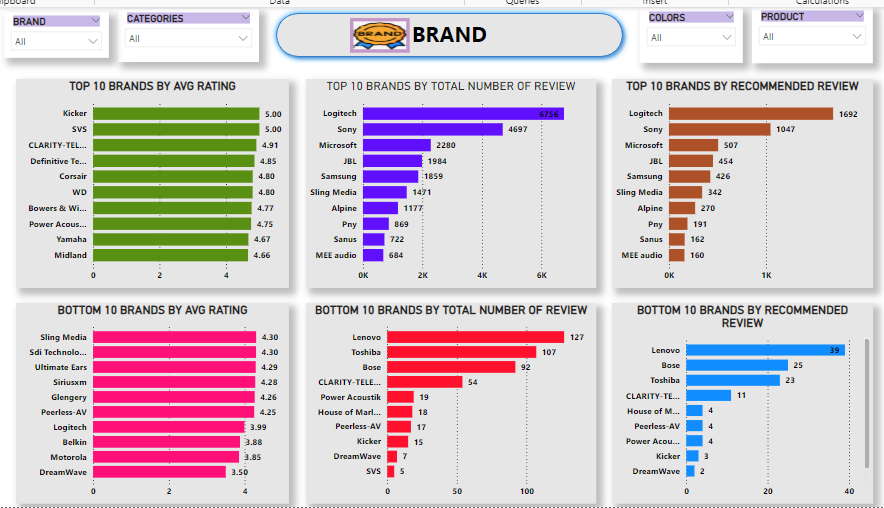

Layout of this report page (visuals, bound fields, positions):
{"tool":"powerbi","page":{"name":"Page 4","canvas":[1280,720],"ordinal":3},"visuals":[{"type":"shape","box":[394.6,0,517,80.6],"z":0},{"type":"image","box":[509.8,15.8,86.4,50.4],"z":1000},{"type":"barChart","title":"TOP 10 BRANDS BY AVG RATING","fields":{"Category":["Dataset.BRAND"],"Y":["Avg(Dataset.REVIEWS RATING)"]},"box":[28.8,103.7,393.1,301],"z":2000},{"type":"barChart","title":"BOTTOM 10 BRANDS BY AVG RATING","fields":{"Category":["Dataset.BRAND"],"Y":["Avg(Dataset.REVIEWS RATING)"]},"box":[28.8,426.2,393.1,289.4],"z":3000},{"type":"barChart","title":"TOP 10 BRANDS BY TOTAL NUMBER OF REVIEW","fields":{"Category":["Dataset.BRAND"],"Y":["Sum(Dataset.REVIEWS RATING)"]},"box":[446.4,103.7,417.6,301],"z":4000},{"type":"barChart","title":"BOTTOM 10 BRANDS BY TOTAL NUMBER OF REVIEW","fields":{"Category":["Dataset.BRAND"],"Y":["Sum(Dataset.REVIEWS RATING)"]},"box":[446,426,418,289],"z":5000},{"type":"barChart","title":"TOP 10 BRANDS BY RECOMMENDED REVIEW","fields":{"Category":["Dataset.BRAND"],"Y":["CountNonNull(Dataset.TOTAL RECOMMENDED REVIEWS)"]},"box":[887,103.7,375.8,301],"z":6000},{"type":"barChart","title":"BOTTOM 10 BRANDS BY RECOMMENDED REVIEW","fields":{"Category":["Dataset.BRAND"],"Y":["CountNonNull(Dataset.TOTAL RECOMMENDED REVIEWS)"]},"box":[887,426,376,289],"z":7000},{"type":"slicer","fields":{"Values":["Dataset.BRAND"]},"box":[11.5,7.2,151.2,66.2],"z":8000},{"type":"slicer","fields":{"Values":["Dataset.CATEGORIES"]},"box":[175.7,2.9,203,76.3],"z":9000},{"type":"slicer","fields":{"Values":["Dataset.COLORS"]},"box":[927.4,1.4,148.3,79.2],"z":10000},{"type":"slicer","fields":{"Values":["Dataset.PRODUCT"]},"box":[1088.6,0,174.2,80.6],"z":11000}]}

Visuals, with their boxes on the page's 1280x720 design canvas (x1, y1, x2, y2). These are canvas units, not pixel positions in the 884x508 screenshot, which may show the page scaled, cropped or inside an application window:
shape: 395:0:912:81
image: 510:16:596:66
"TOP 10 BRANDS BY AVG RATING" barChart: 29:104:422:405
"BOTTOM 10 BRANDS BY AVG RATING" barChart: 29:426:422:716
"TOP 10 BRANDS BY TOTAL NUMBER OF REVIEW" barChart: 446:104:864:405
"BOTTOM 10 BRANDS BY TOTAL NUMBER OF REVIEW" barChart: 446:426:864:715
"TOP 10 BRANDS BY RECOMMENDED REVIEW" barChart: 887:104:1263:405
"BOTTOM 10 BRANDS BY RECOMMENDED REVIEW" barChart: 887:426:1263:715
slicer - Dataset.BRAND: 12:7:163:73
slicer - Dataset.CATEGORIES: 176:3:379:79
slicer - Dataset.COLORS: 927:1:1076:81
slicer - Dataset.PRODUCT: 1089:0:1263:81
